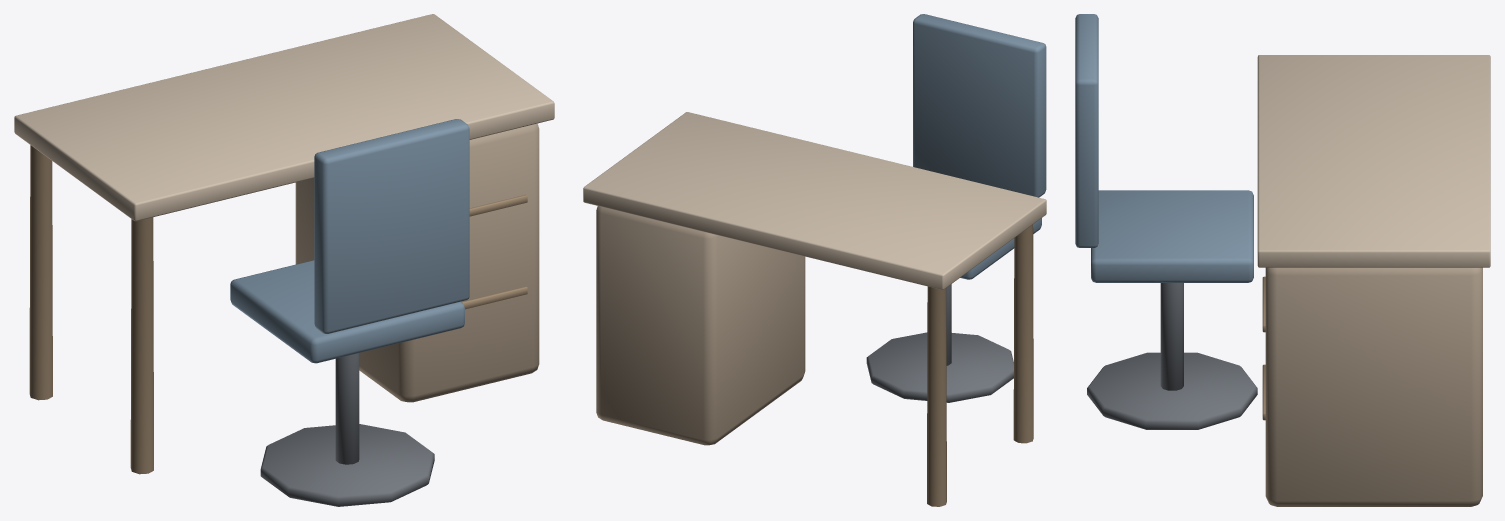
Rendered from desk.glb.
3 renders of one model, left to right at view 1: azimuth 30°, elevation 25°; view 2: azimuth 150°, elevation 25°; view 3: azimuth 270°, elevation 25°, orthographic. The views are drawn at different scales.
Visible parts, largest first — view 1: desk; view 2: desk; view 3: desk.
Boxes of the visible parts, left/top/right/bottom form: desk: left=14, top=14, right=554, bottom=506; desk: left=583, top=14, right=1046, bottom=506; desk: left=1075, top=14, right=1490, bottom=506.
Size of the model in its own units: 1.2 by 1 by 1.07.
